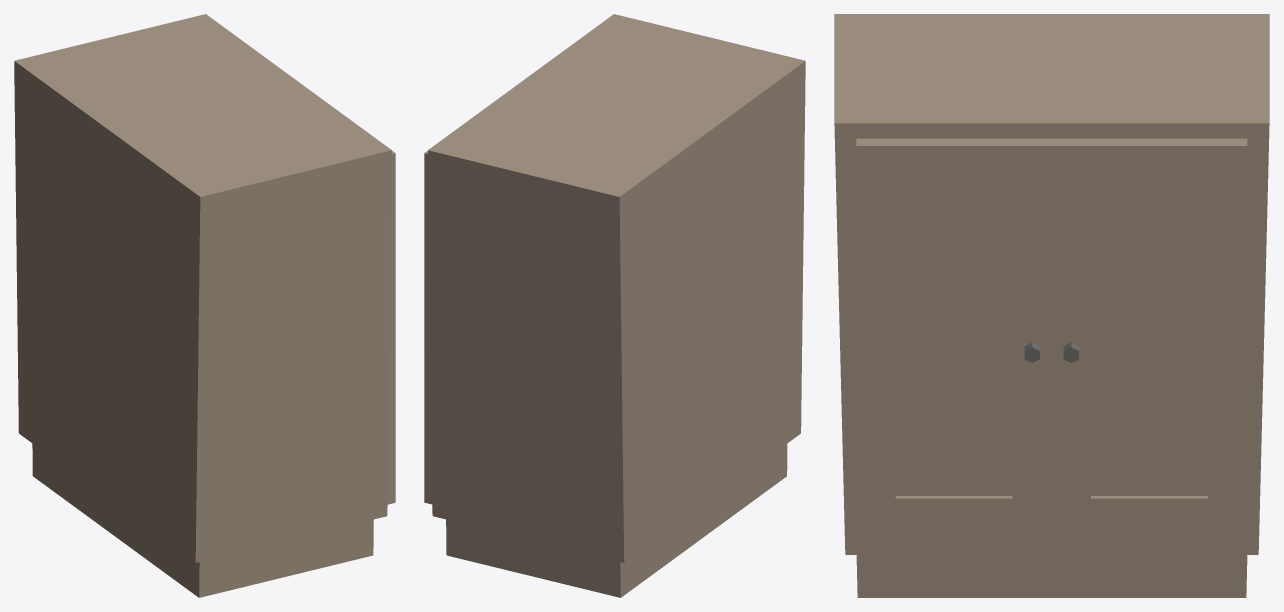
Rendered from Wardrobe_Mesh.fbx.
3 views of the same model, side by side, from view 1: azimuth 30°, elevation 25°; view 2: azimuth 150°, elevation 25°; view 3: azimuth 270°, elevation 25° (orthographic). The views are drawn at different scales.
Parts seen in each view (by area): view 1: Wardrobe, WardrobeDoor1; view 2: Wardrobe, WardrobeDoor2; view 3: Wardrobe, WardrobeDoor2, WardrobeDoor1.
Part boxes in pixels (<box>): Wardrobe: <box>14,14,391,597</box>; WardrobeDoor1: <box>387,151,395,504</box>; Wardrobe: <box>428,14,805,597</box>; WardrobeDoor2: <box>424,151,432,504</box>; Wardrobe: <box>834,14,1269,597</box>; WardrobeDoor2: <box>1051,138,1247,554</box>; WardrobeDoor1: <box>856,138,1051,554</box>.
Size of the model in its own units: 4.9 by 9 by 7.4.
